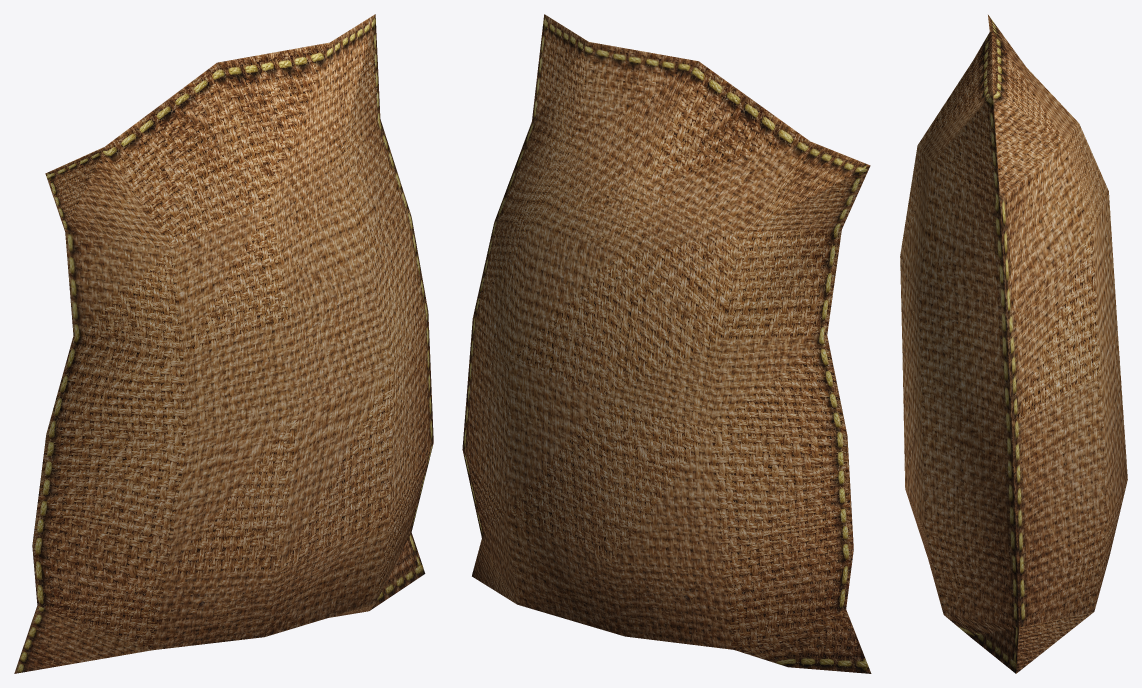
File: mm9_deco_sack01.glb
3 views of the same model, side by side, from view 1: azimuth 30°, elevation 25°; view 2: azimuth 150°, elevation 25°; view 3: azimuth 270°, elevation 25° (orthographic). The views are drawn at different scales.
Visible parts, largest first — view 1: Sack01; view 2: Sack01; view 3: Sack01.
Part boxes in pixels (x1=…): Sack01: x1=14, y1=14, x2=433, y2=673; Sack01: x1=462, y1=14, x2=871, y2=673; Sack01: x1=900, y1=15, x2=1127, y2=673.
Size of the model in its own units: 0.743 by 0.9878 by 0.3704.
1 material, 1 textured.
